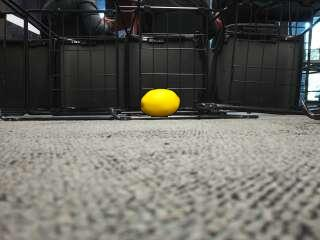lemon: (142, 89, 180, 116)
